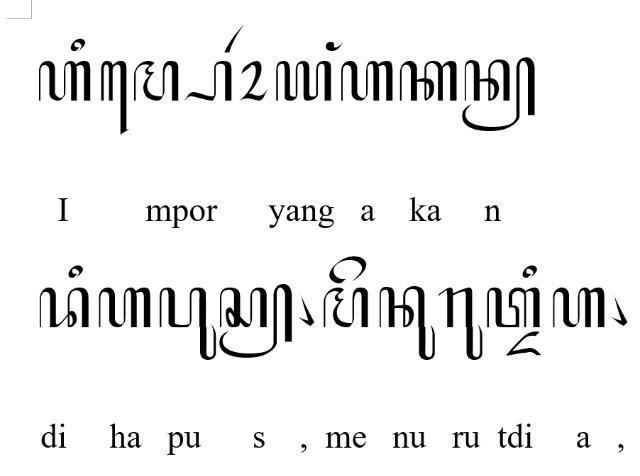-n: (461, 56, 535, 132)
-s: (220, 284, 292, 358)
_d: (506, 331, 542, 357)
_p: (184, 60, 232, 102)
_r1: (225, 23, 245, 52)
d: (39, 287, 89, 329)
e: (328, 256, 368, 284)
e1: (100, 60, 130, 134)
h: (342, 60, 394, 102), (552, 288, 606, 328), (38, 60, 90, 101), (98, 288, 150, 328)
i: (70, 37, 86, 51), (523, 265, 537, 279), (68, 266, 82, 278)
k: (398, 60, 458, 101)
kom: (298, 292, 314, 326), (611, 294, 627, 326)
m: (132, 60, 180, 102), (322, 288, 368, 328)
ng: (326, 40, 344, 52)
nu: (378, 286, 436, 360)
o: (238, 60, 268, 101)
pu: (160, 287, 217, 361)
ru: (438, 288, 482, 360)
t: (486, 287, 540, 329)
y: (276, 60, 332, 102)
